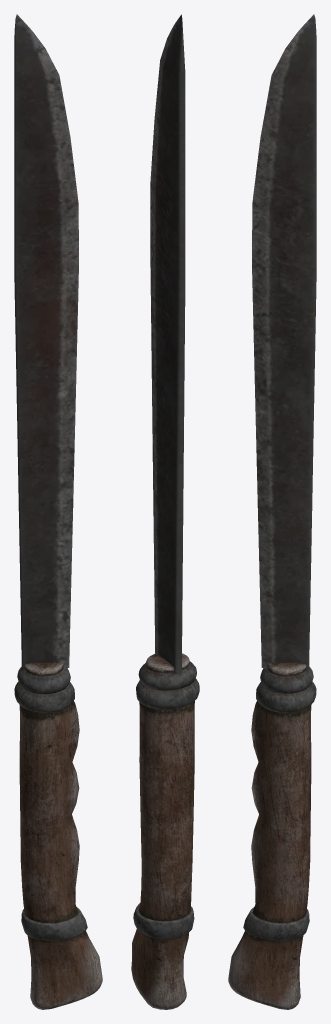
The model's file is machete.gltf.
3 renders of one model, left to right at view 1: azimuth 90°, elevation 25°; view 2: azimuth 210°, elevation 25°; view 3: azimuth 270°, elevation 25°, orthographic.
Visible parts, largest first — view 1: machete; view 2: machete; view 3: machete.
Part boxes in pixels (x1,y1,x2,y2): machete: (14,14,102,1009); machete: (131,14,199,1009); machete: (228,14,316,1009).
Size of the model in its own units: 0.0444 by 0.7548 by 0.0611.
Materials: 1 (1 with a texture image).
